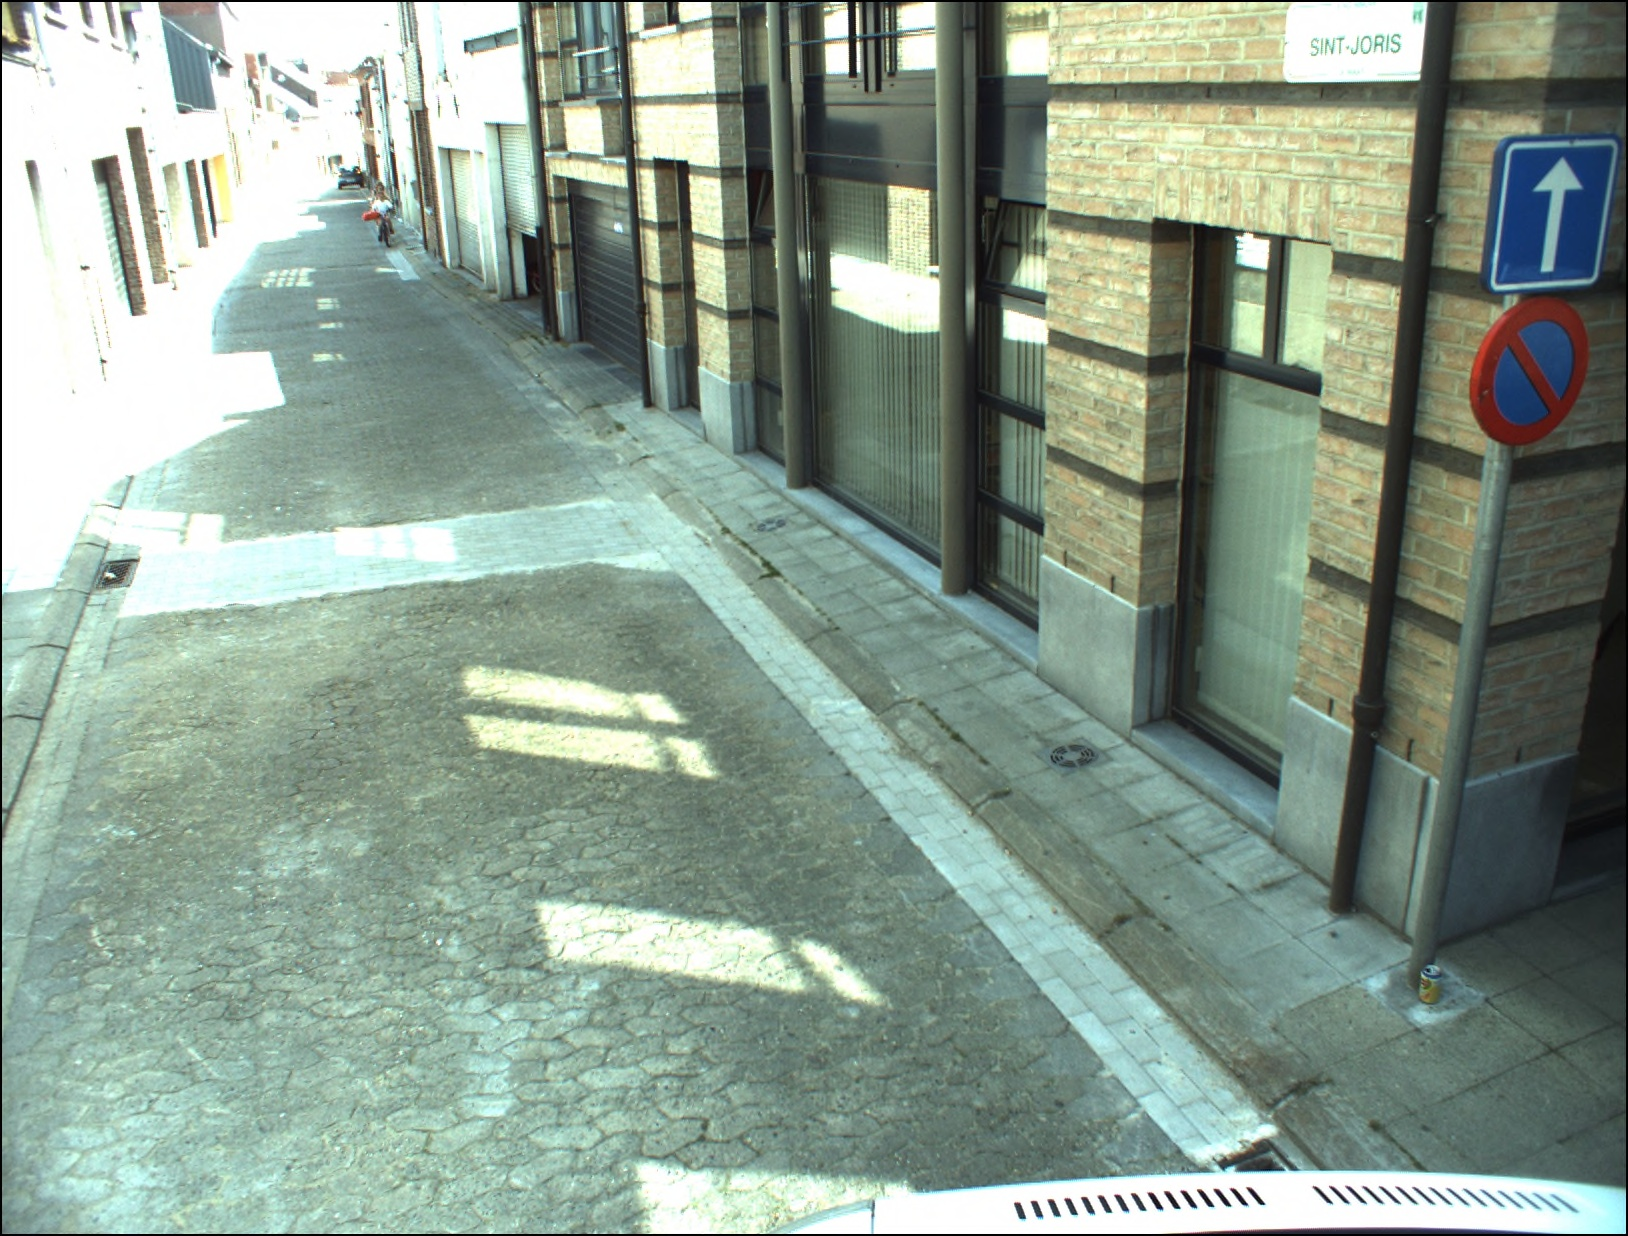noparking: (1471, 297, 1590, 447)
oneway: (1486, 143, 1616, 290)
